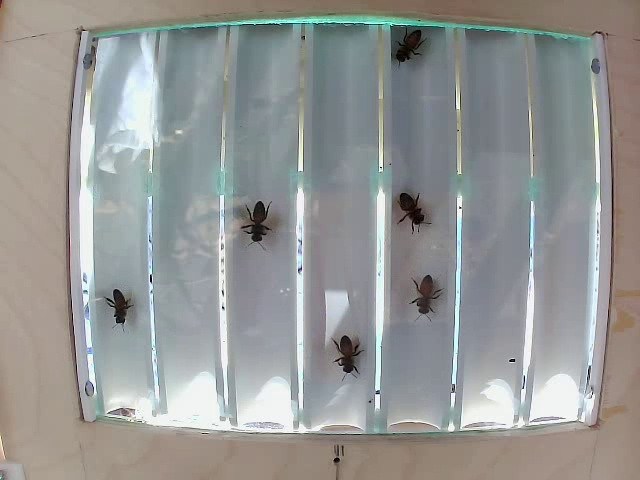bee: (239, 192, 300, 249), (111, 273, 168, 321), (393, 170, 437, 224), (393, 272, 444, 314), (396, 29, 442, 69), (336, 328, 378, 370)
